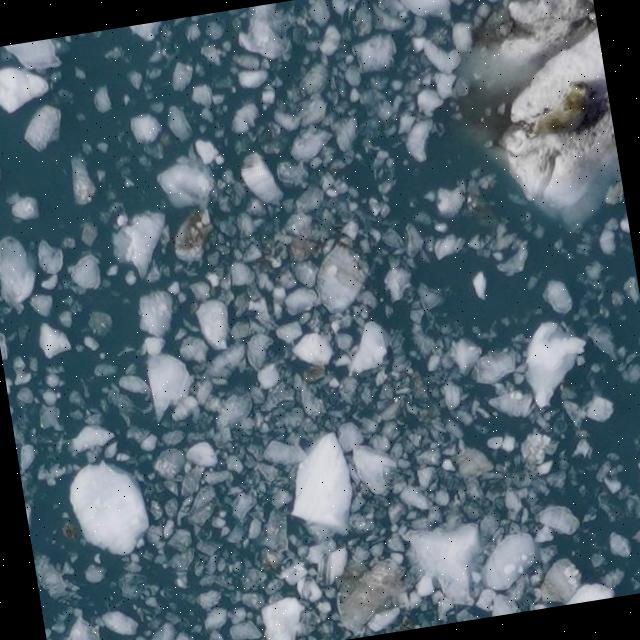seal: (522, 74, 605, 154)
